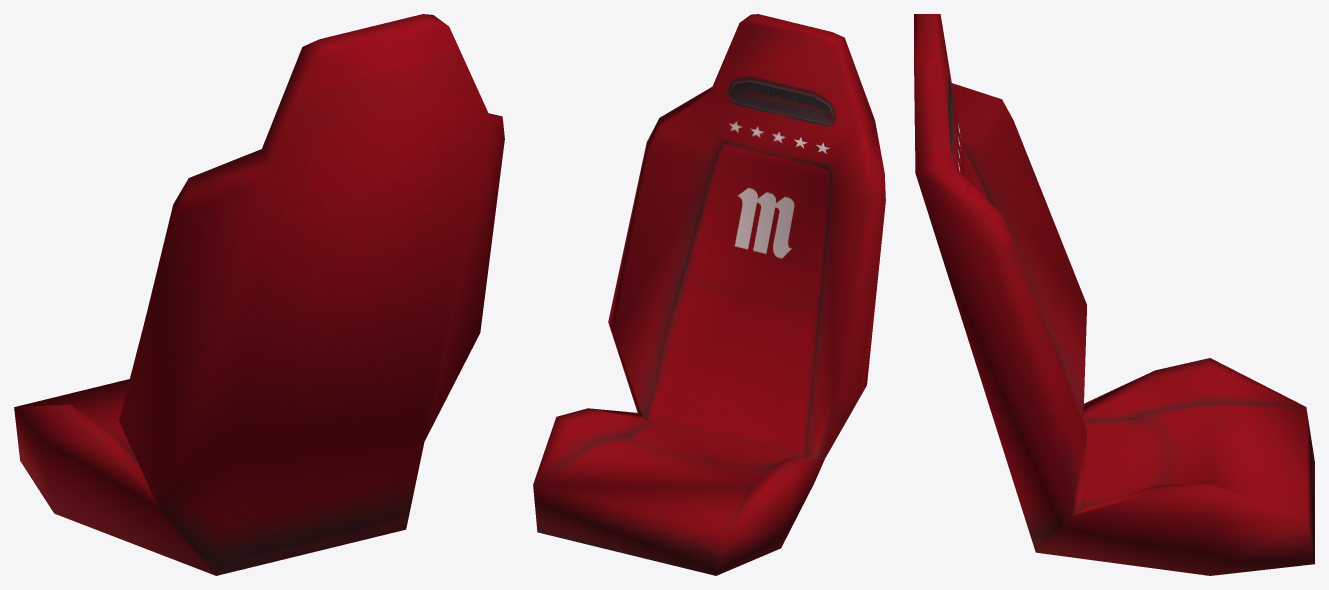
Rendered from ESTADIO_banquilloSilla.FBX.
3 views of the same model, side by side, from view 1: azimuth 30°, elevation 25°; view 2: azimuth 150°, elevation 25°; view 3: azimuth 270°, elevation 25° (orthographic). The views are drawn at different scales.
Parts seen in each view (by area): view 1: ESTADIO_banquilloSilla; view 2: ESTADIO_banquilloSilla; view 3: ESTADIO_banquilloSilla.
Part boxes in pixels (x1,y1,x2,y2): ESTADIO_banquilloSilla: (14, 14, 504, 575); ESTADIO_banquilloSilla: (533, 14, 885, 575); ESTADIO_banquilloSilla: (914, 14, 1314, 575).
Bounding box in the file's own units: 62.16 × 93.69 × 71.14.
1 material, 1 textured.
